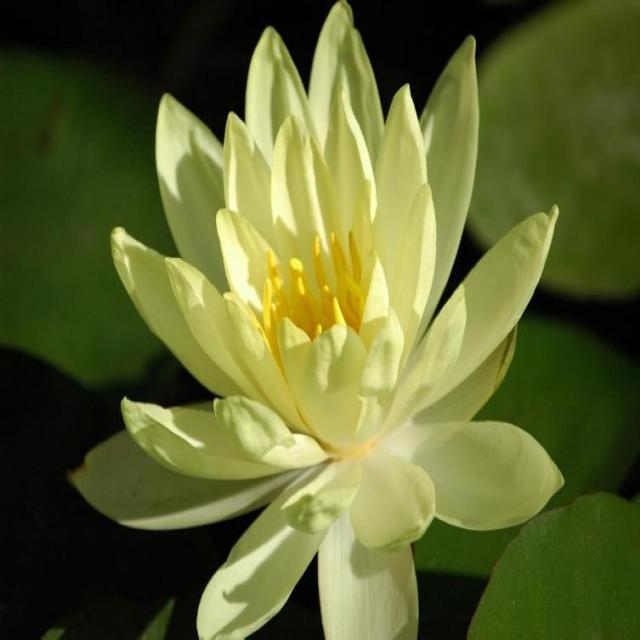water-lily: (66, 0, 583, 629)
